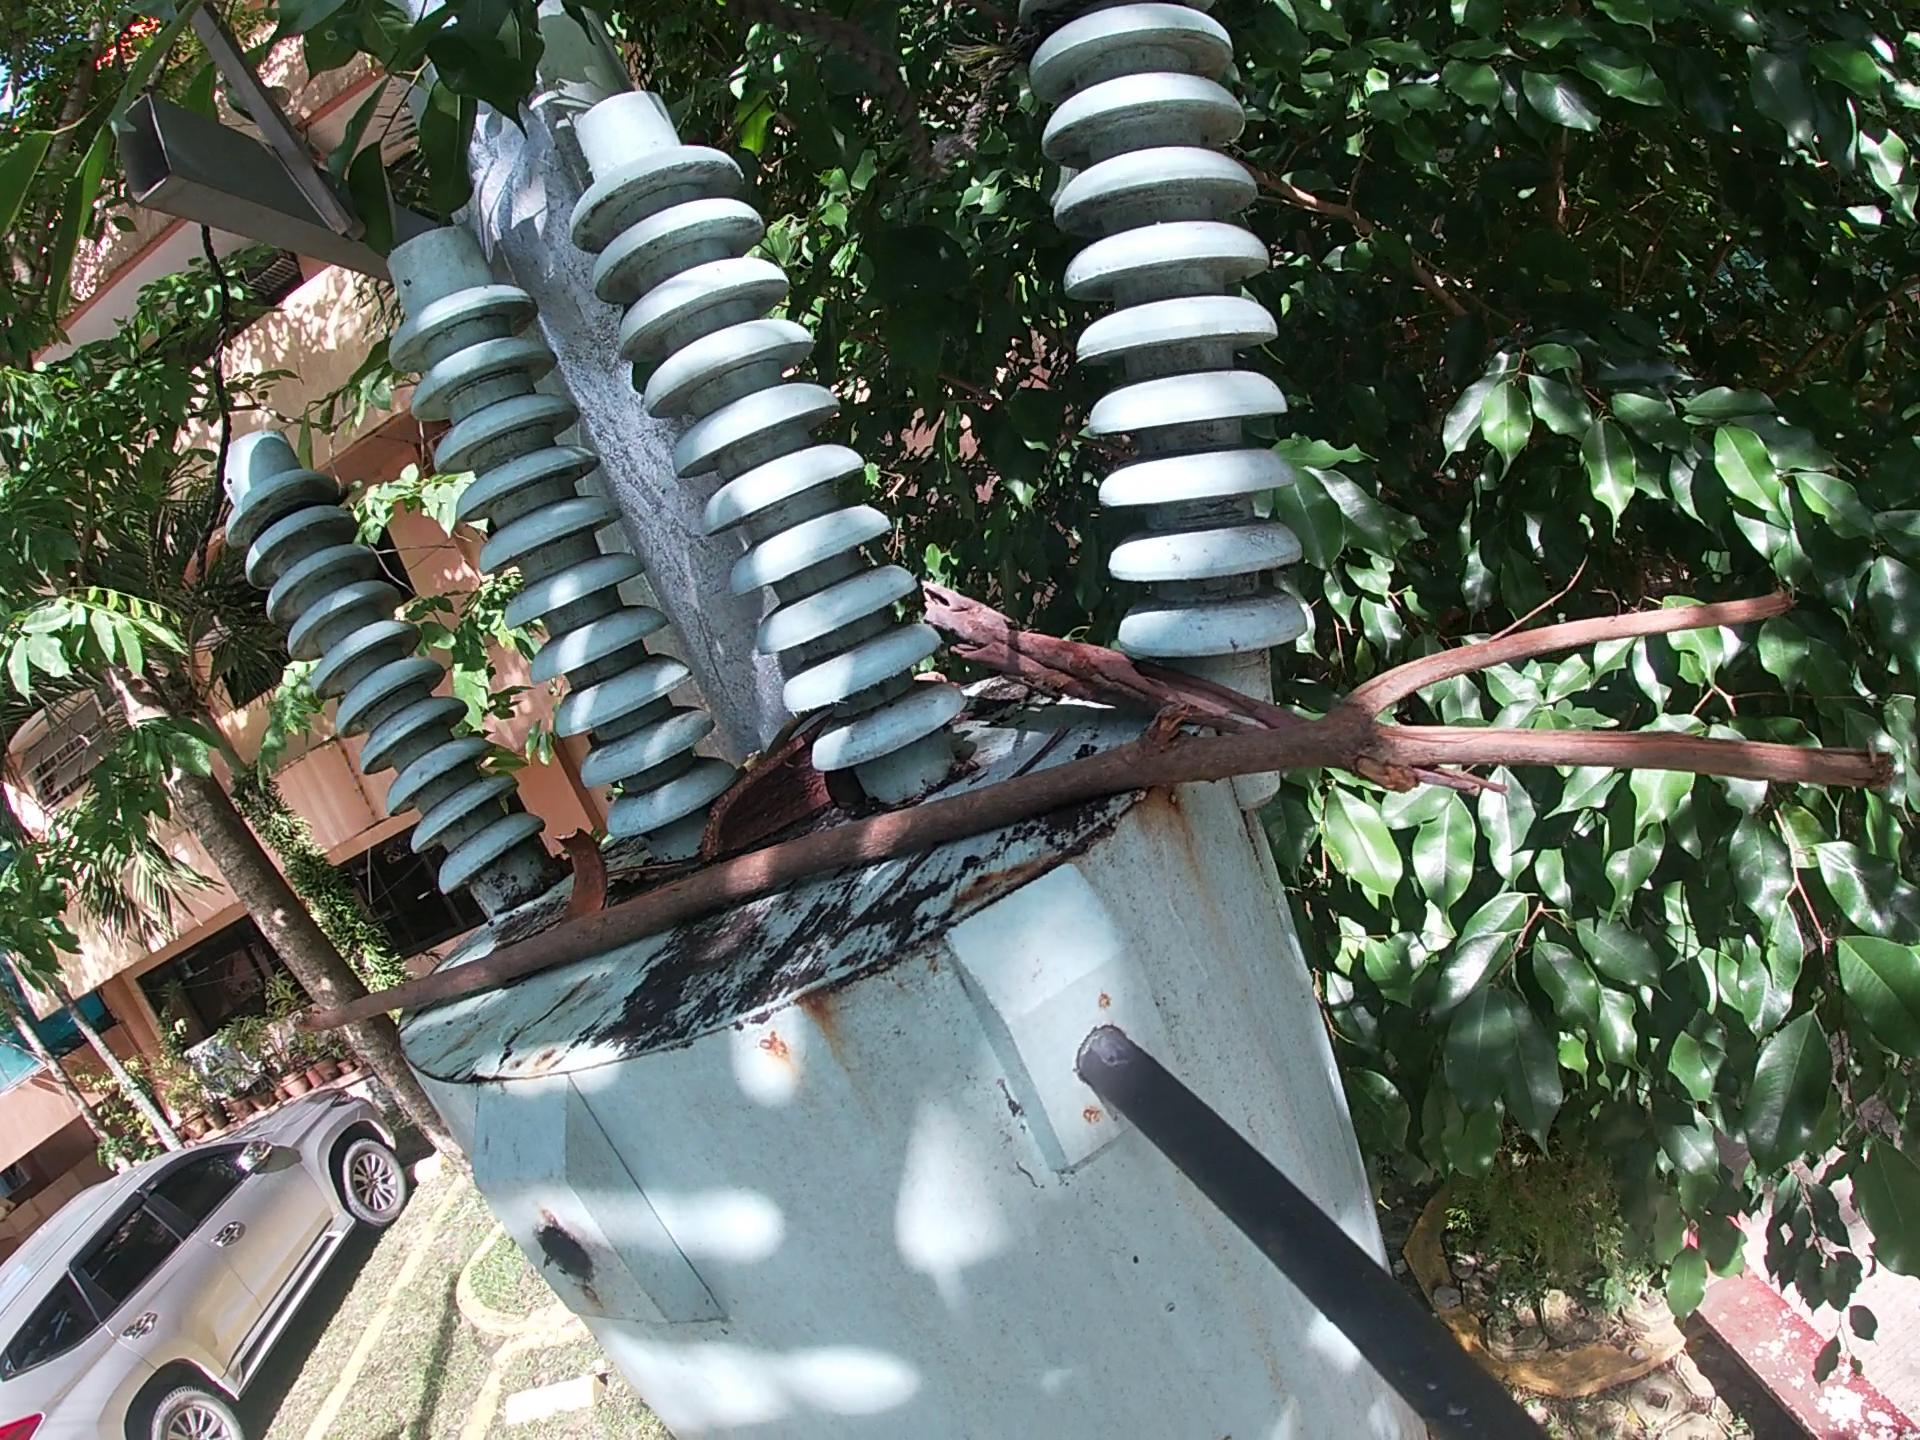mahogany fruit: (694, 712, 857, 877), (553, 824, 618, 927)
tree branch: (287, 582, 1906, 1045), (912, 569, 1513, 812)
